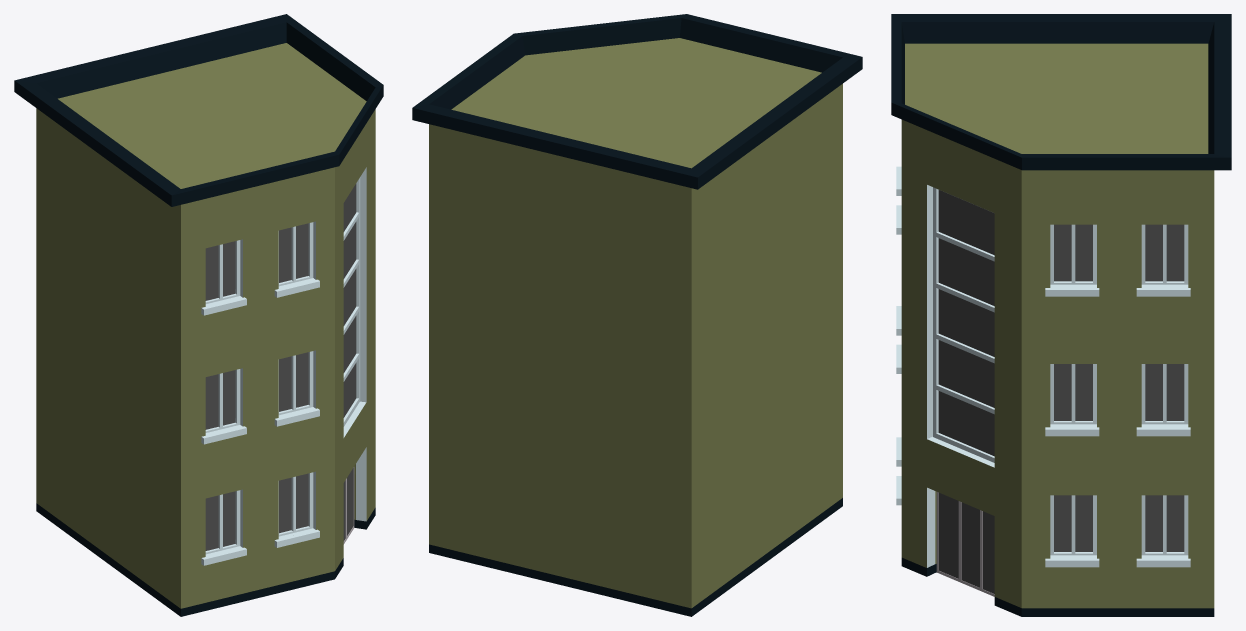
Rendered from Flat2.fbx.
The picture shows the model from 3 angles, left to right: view 1: azimuth 30°, elevation 25°; view 2: azimuth 150°, elevation 25°; view 3: azimuth 270°, elevation 25°; orthographic projection. The views are drawn at different scales.
Parts seen in each view (by area): view 1: flat2; view 2: flat2; view 3: flat2.
Boxes of the visible parts, x1,y1,x2,y2 form: flat2: (14,14,383,616); flat2: (412,14,862,616); flat2: (891,14,1231,616).
Bounding box in the file's own units: 5.89 × 8.85 × 5.89.
